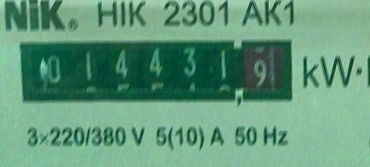0: (44, 51, 66, 85)
1: (81, 47, 100, 81), (218, 47, 232, 79)
3: (181, 46, 201, 78)
4: (112, 45, 134, 79), (147, 44, 166, 78)
9: (252, 56, 270, 88)
screen: (11, 23, 308, 119)
